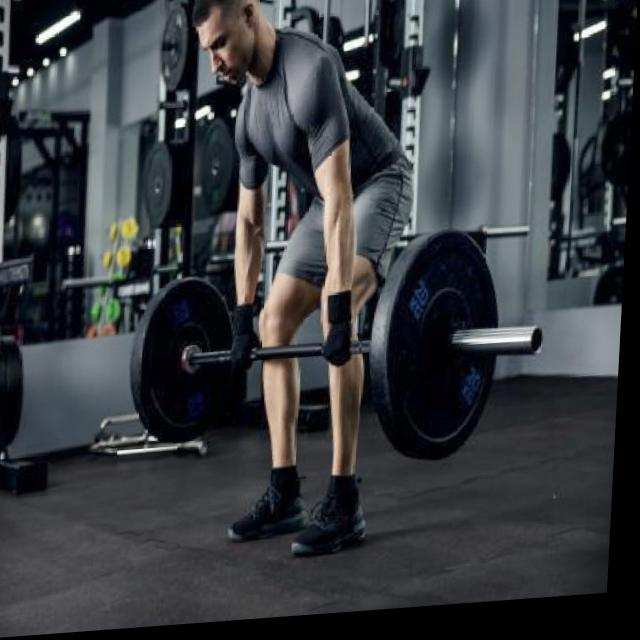barbell: (378, 224, 555, 474)
